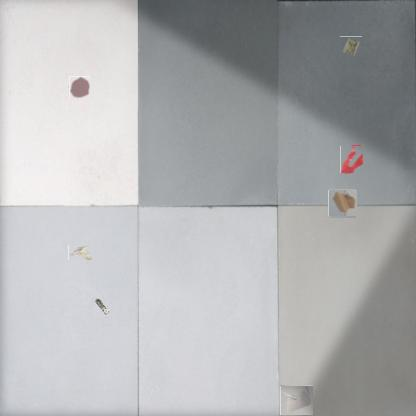dirty: (280, 385, 313, 415), (329, 190, 357, 217), (340, 36, 362, 57), (92, 298, 112, 318), (68, 244, 93, 260)
liquid: (340, 145, 363, 173), (68, 76, 90, 99)
